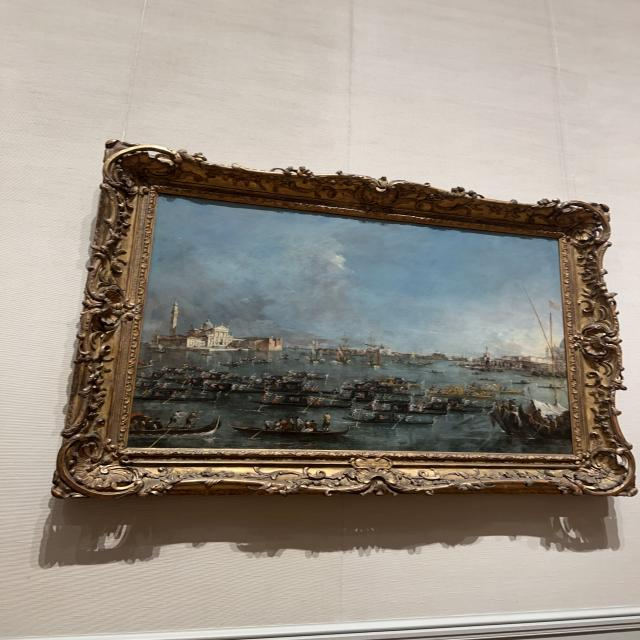ships: (128, 195, 573, 453)
